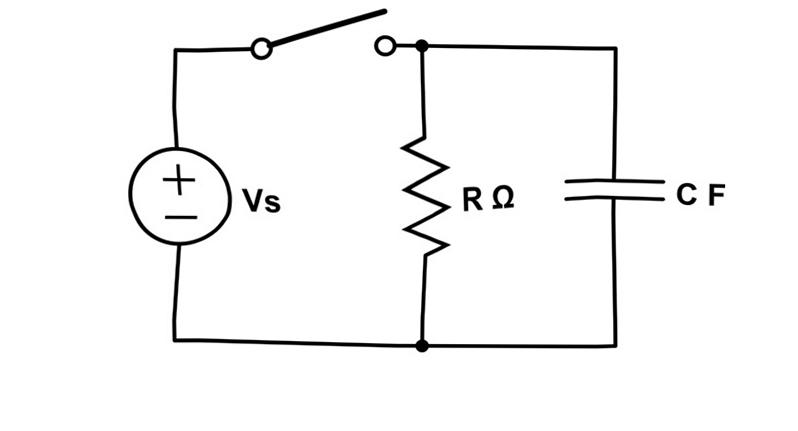Battery: (110, 138, 239, 257)
